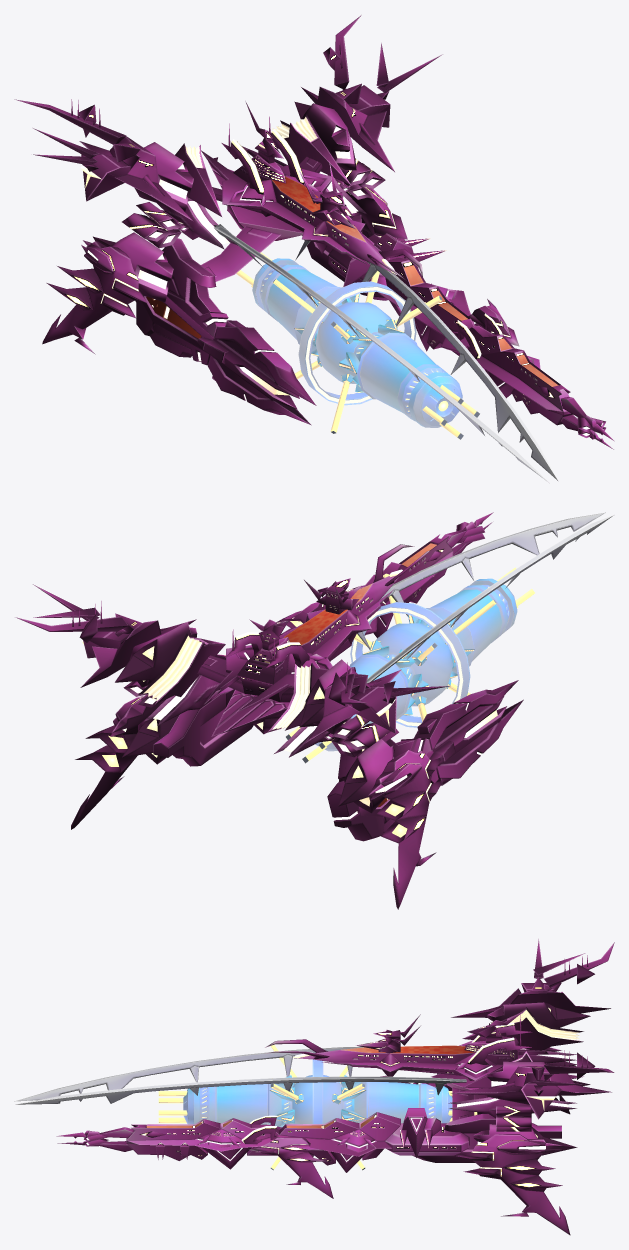
3 views of the same model, one above another, from view 1: azimuth 30°, elevation 25°; view 2: azimuth 150°, elevation 25°; view 3: azimuth 270°, elevation 25° (orthographic). The views are drawn at different scales.
Parts seen in each view (by area): view 1: body; view 2: body; view 3: body.
Part boxes in pixels (<box>): body: <box>14,15,614,482</box>; body: <box>15,512,613,909</box>; body: <box>14,939,614,1235</box>.
Bounding box in the file's own units: 687 × 365 × 1124.
4 materials, 4 textured.
